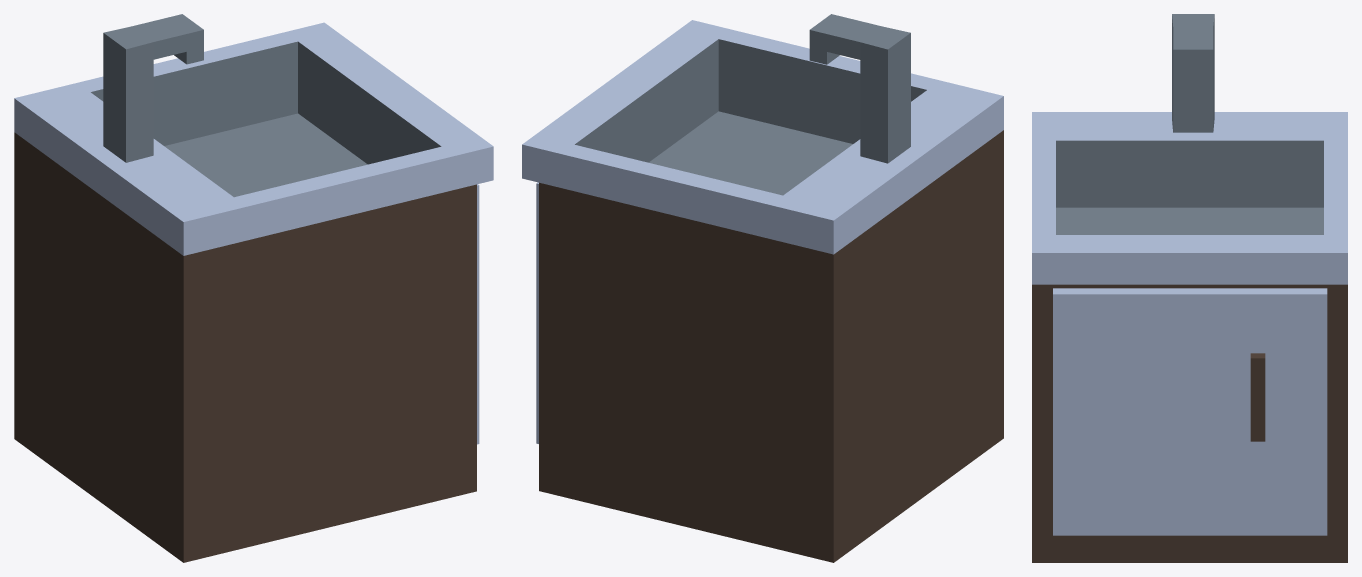
The model's file is CountertopSink.fbx.
The picture shows the model from 3 angles, left to right: view 1: azimuth 30°, elevation 25°; view 2: azimuth 150°, elevation 25°; view 3: azimuth 270°, elevation 25°; orthographic projection. The views are drawn at different scales.
Visible parts, largest first — view 1: CountertopCabinetSinkBase, CountertopCabinetSinkDoor; view 2: CountertopCabinetSinkBase, CountertopCabinetSinkDoor; view 3: CountertopCabinetSinkBase, CountertopCabinetSinkDoor.
Boxes of the visible parts, <box> form: CountertopCabinetSinkBase: <box>14,14,493,562</box>; CountertopCabinetSinkDoor: <box>477,184,479,444</box>; CountertopCabinetSinkBase: <box>522,14,1003,562</box>; CountertopCabinetSinkDoor: <box>536,182,538,443</box>; CountertopCabinetSinkBase: <box>1032,14,1347,562</box>; CountertopCabinetSinkDoor: <box>1053,288,1327,535</box>.
Size of the model in its own units: 163 by 222 by 150.
